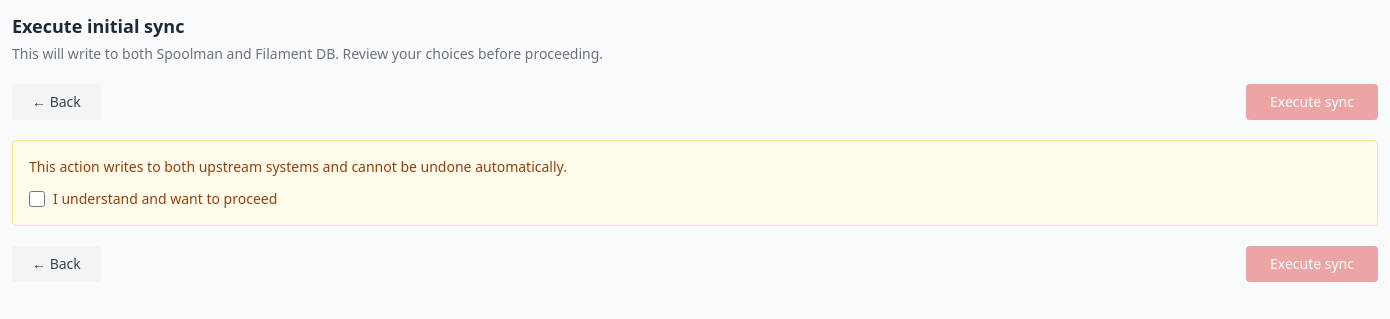
Scenario: Step6Execute — result view › shows the Failed section with label and error message when a record fails
Click the checkbox at (37, 199), box [29, 191, 45, 207]
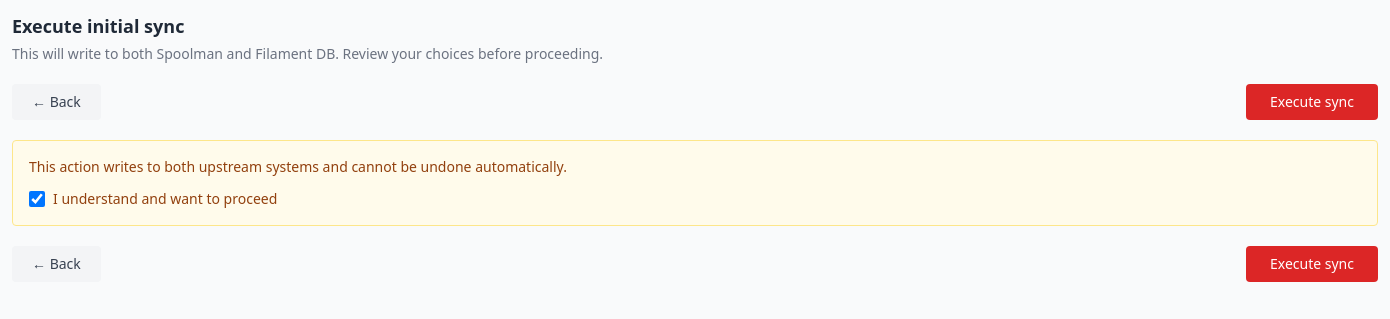
Click the 1st button "Execute sync" at (1312, 102), box [1246, 84, 1378, 120]
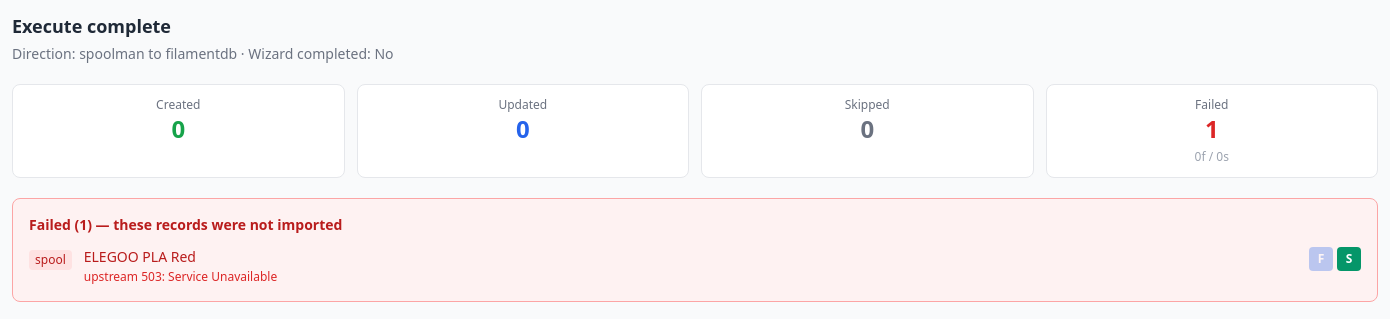
Expected: the heading "Failed (1) — these records were not imported" is shown, [29, 215, 342, 234]
Expected: the text "ELEGOO PLA Red" is shown, [84, 247, 196, 266]
Expected: the text "upstream 503: Service Unavailable" is shown, [84, 268, 277, 285]
